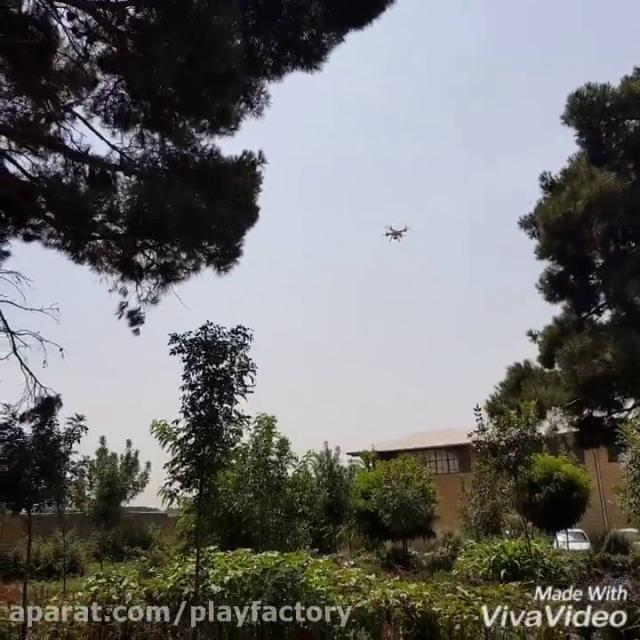drone: (380, 220, 412, 244)
